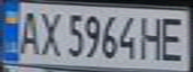4: (118, 12, 142, 61)
5: (63, 10, 84, 57)
6: (100, 12, 121, 60)
9: (81, 11, 103, 58)
A: (12, 7, 42, 56)
E: (157, 14, 190, 62)
H: (136, 12, 166, 61)
X: (36, 7, 63, 57)
